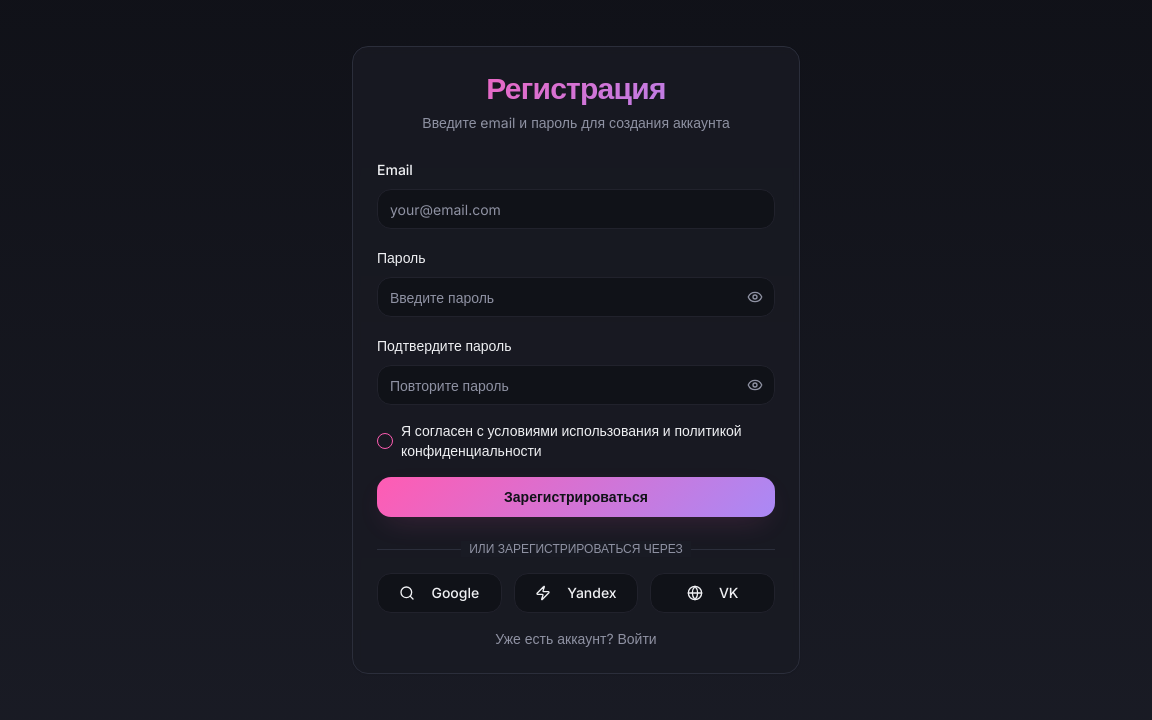
Test case: Register Component › shows validation errors for empty form submission
This screenshot has width=1152, height=720.
Click the button "Зарегистрироваться". click: (576, 497)
box: top-left (377, 477), bottom-right (775, 517)
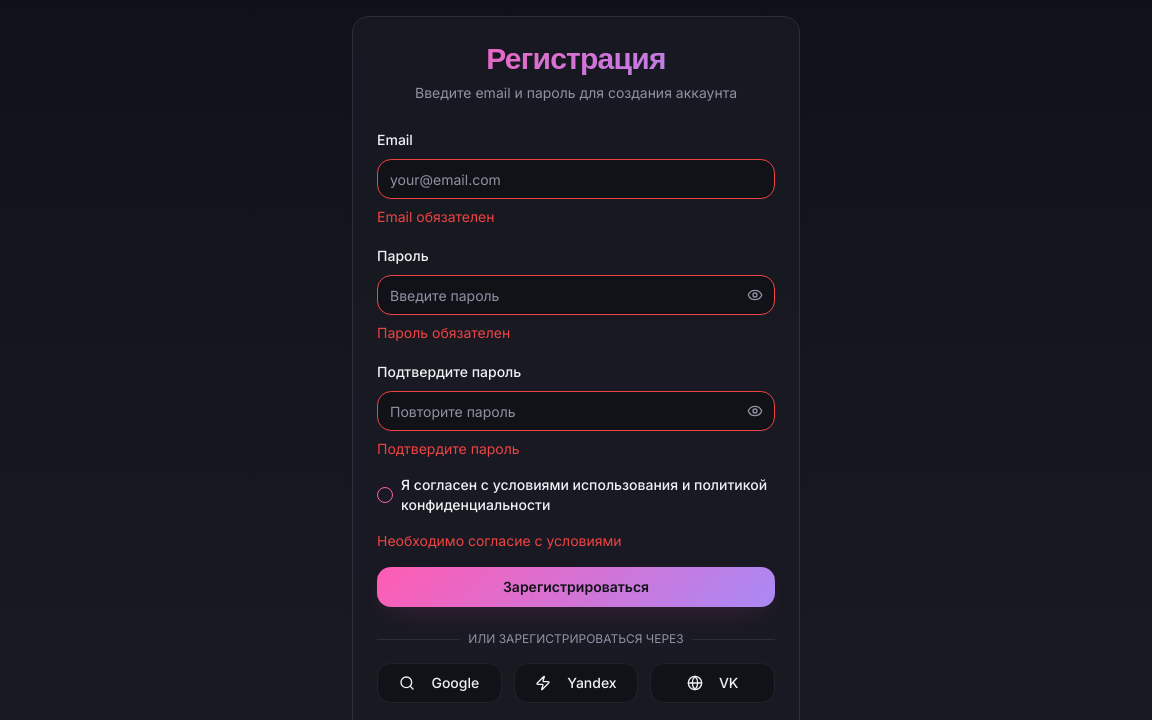
Now the text "Email обязателен" is shown, box top-left (377, 208), bottom-right (494, 225)
Now the text "Пароль обязателен" is shown, box top-left (377, 324), bottom-right (510, 341)
Now the text "Необходимо согласие с условиями" is shown, box top-left (377, 532), bottom-right (622, 549)
